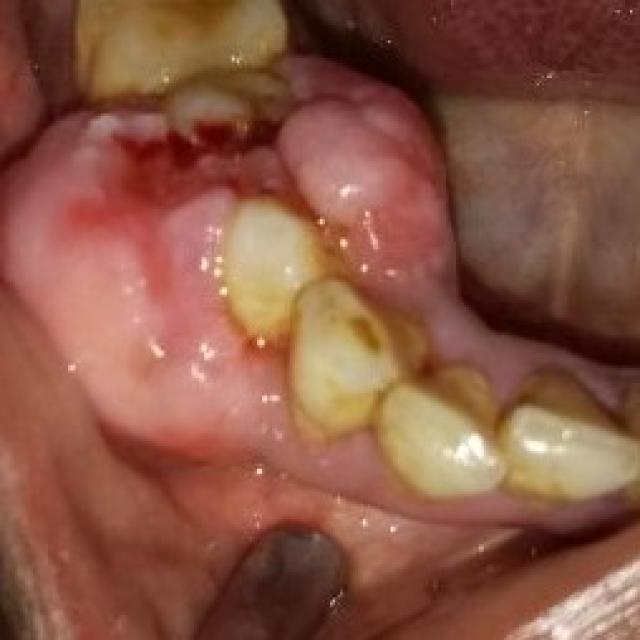Cancer: (46, 75, 494, 443)
